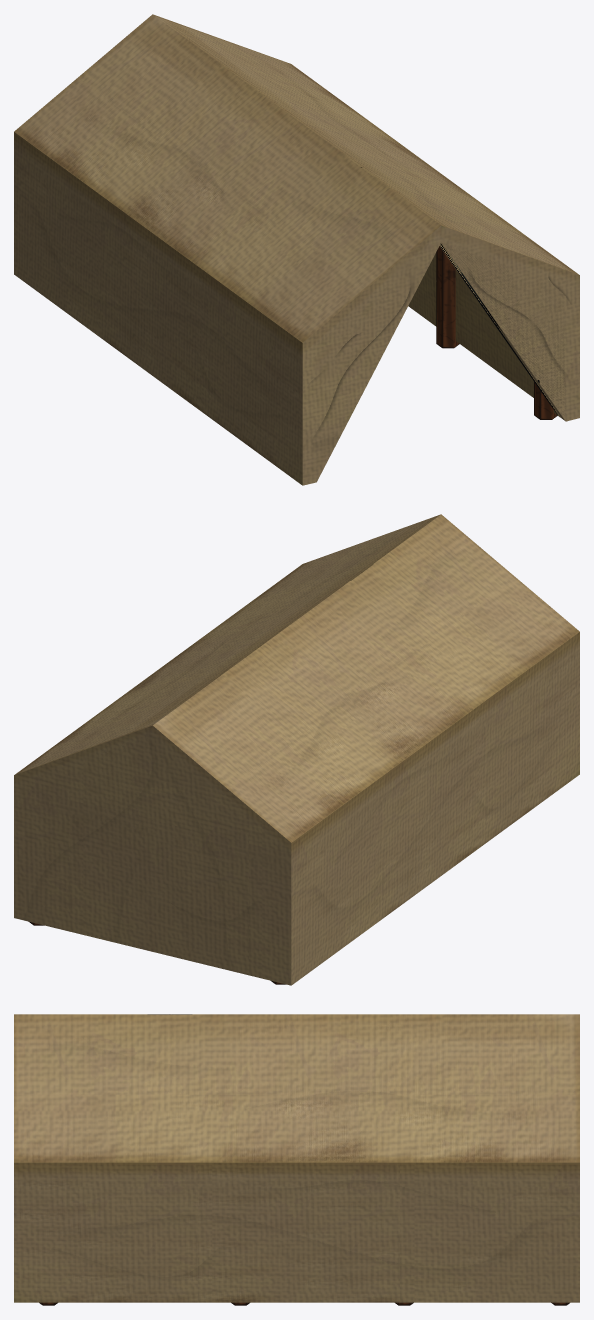
File: Tent_1_Col.fbx
3 views of the same model, one above another, from view 1: azimuth 30°, elevation 25°; view 2: azimuth 150°, elevation 25°; view 3: azimuth 270°, elevation 25° (orthographic).
Visible parts, largest first — view 1: Tent, Tent_Col; view 2: Tent; view 3: Tent.
Boxes of the visible parts, box(x1,y1,x2,y2) form: Tent: box(14, 14, 579, 485); Tent_Col: box(350, 159, 565, 421); Tent: box(14, 514, 579, 985); Tent: box(14, 1014, 579, 1305).
Bounding box in the file's own units: 390 × 313 × 703.
